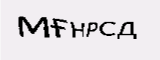А: (104, 3, 135, 29)
З: (22, 11, 39, 39)
Л: (67, 10, 88, 36)
Ч: (85, 4, 107, 29)
Ш: (39, 12, 69, 34)
